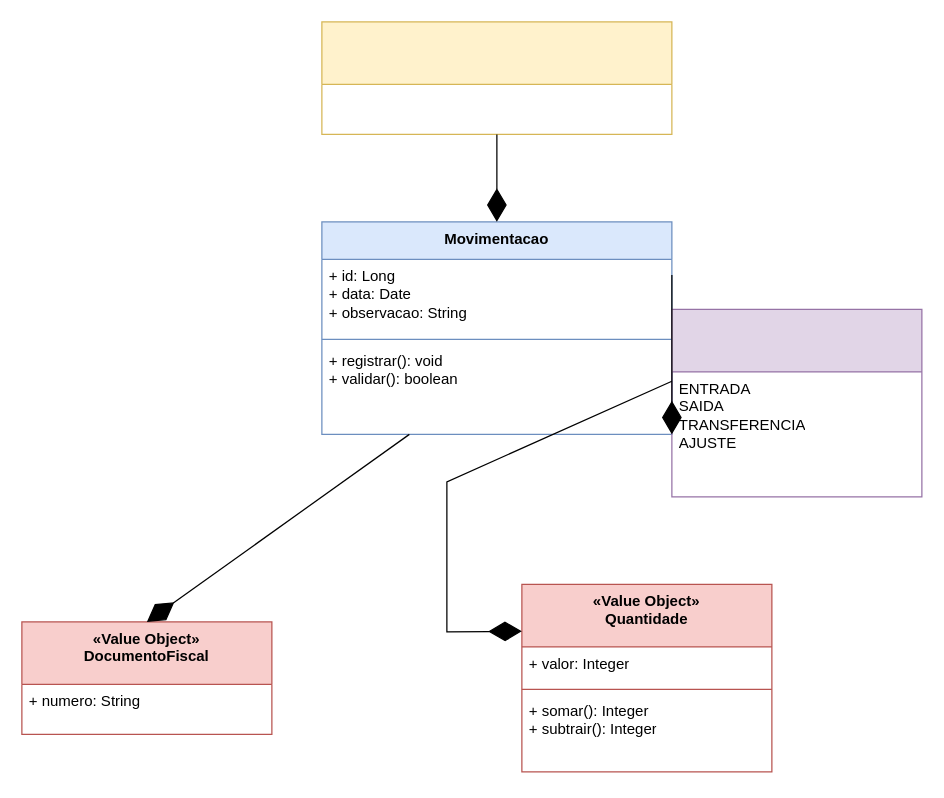
This 944x798 diagram has some shape labels left out. Each missing label, with the box of its shape:
«Aggregate Root» MovimentacaoAggregate: (321, 21, 672, 134)
«Enumeration» TipoMovimentacao: (671, 308, 922, 497)
